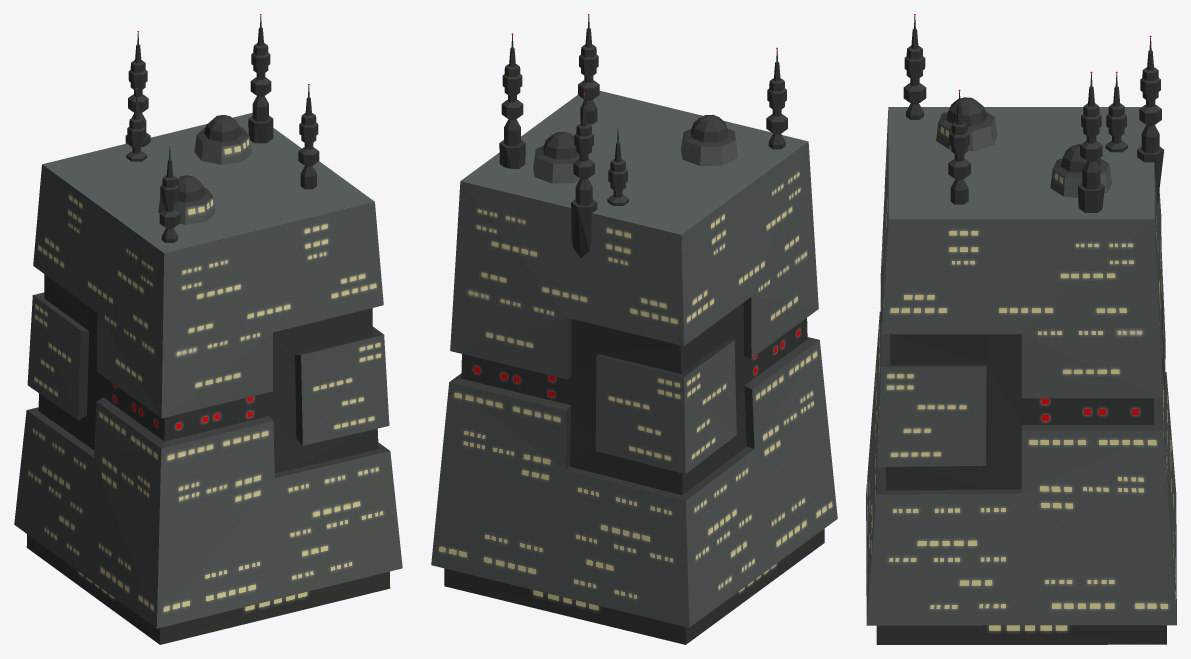
Rendered from spiredCubeBuilding.obj.
3 views of the same model, side by side, from view 1: azimuth 30°, elevation 25°; view 2: azimuth 150°, elevation 25°; view 3: azimuth 270°, elevation 25° (orthographic). The views are drawn at different scales.
Visible parts, largest first — view 1: obj.spiredBuilding.000_Cube.001; view 2: obj.spiredBuilding.000_Cube.001; view 3: obj.spiredBuilding.000_Cube.001.
Boxes of the visible parts, left/top/right/bottom form: obj.spiredBuilding.000_Cube.001: left=14, top=14, right=402, bottom=644; obj.spiredBuilding.000_Cube.001: left=431, top=14, right=837, bottom=644; obj.spiredBuilding.000_Cube.001: left=866, top=14, right=1176, bottom=644.
Size of the model in its own units: 18.21 by 36 by 18.22.
